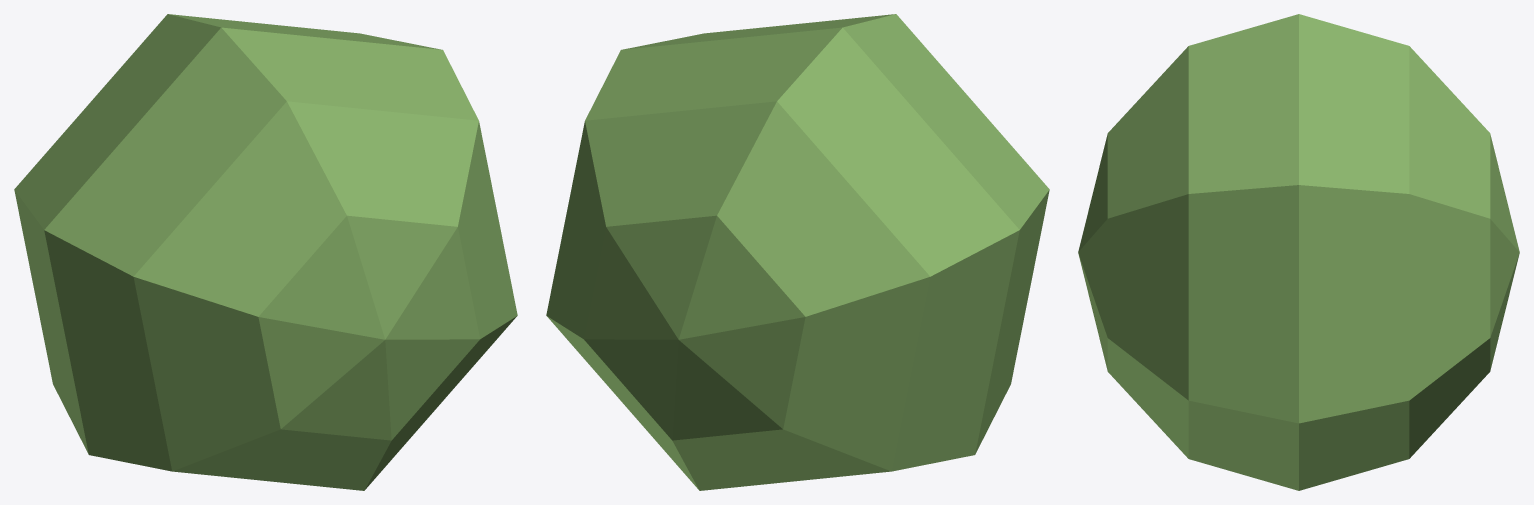
File: PeaProjectile.fbx
3 renders of one model, left to right at view 1: azimuth 30°, elevation 25°; view 2: azimuth 150°, elevation 25°; view 3: azimuth 270°, elevation 25°, orthographic. The views are drawn at different scales.
Visible parts, largest first — view 1: pSphere6; view 2: pSphere6; view 3: pSphere6.
Part boxes in pixels (box(x1,y1,x2,y2)): pSphere6: box(14, 14, 517, 490); pSphere6: box(546, 14, 1049, 490); pSphere6: box(1078, 14, 1519, 490).
Bounding box in the file's own units: 0.4659 × 0.4735 × 0.4341.
